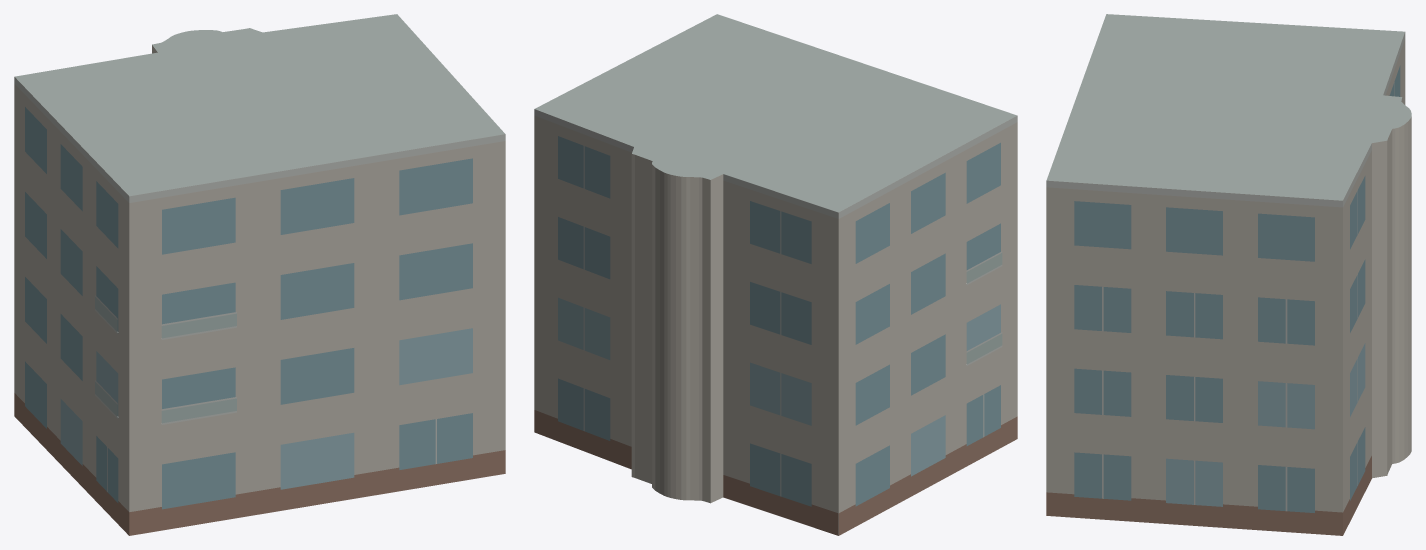
File: survey-upis-32812243.glb
3 renders of one model, left to right at view 1: azimuth 30°, elevation 25°; view 2: azimuth 150°, elevation 25°; view 3: azimuth 270°, elevation 25°, orthographic. The views are drawn at different scales.
Parts seen in each view (by area): view 1: survey-upis-32812243.tmp; view 2: survey-upis-32812243.tmp; view 3: survey-upis-32812243.tmp.
Part boxes in pixels (x1=…): survey-upis-32812243.tmp: x1=14, y1=14, x2=505, y2=535; survey-upis-32812243.tmp: x1=534, y1=14, x2=1017, y2=535; survey-upis-32812243.tmp: x1=1046, y1=14, x2=1411, y2=535.
Bounding box in the file's own units: 14.59 × 12.2 × 12.06.
